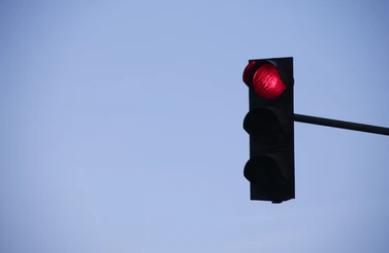red_light: (243, 56, 296, 203)
